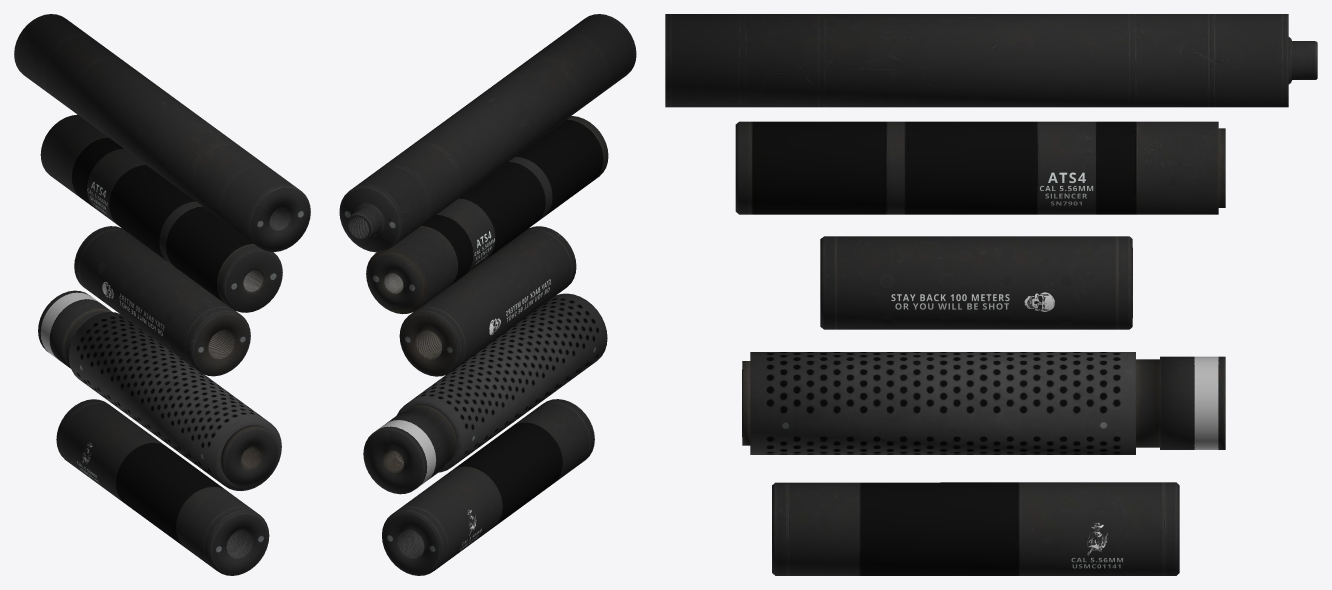
File: item_silencers.glb
3 views of the same model, side by side, from view 1: azimuth 30°, elevation 25°; view 2: azimuth 150°, elevation 25°; view 3: azimuth 270°, elevation 25° (orthographic). The views are drawn at different scales.
Visible parts, largest first — view 1: SR8_low, ATS4_low, MD3_low, ATS5_low, SB100_low, ATS5-2_low, SB1_Decal2; view 2: SR8_low, ATS4_low, MD3_low, ATS5_low, SB100_low, ATS5-2_low, SB1_Decal2; view 3: SR8_low, ATS4_low, ATS5_low, MD3_low, SB100_low, ATS5-2_low, SB1_Decal2, INSTANT_011_fa7e991e-6772-4d5d-b2b3-e9c001a8be7e_projected_..
Part boxes in pixels (x1=…): SR8_low: x1=14, y1=14, x2=310, y2=251; ATS4_low: x1=40, y1=114, x2=282, y2=312; MD3_low: x1=56, y1=399, x2=269, y2=575; ATS5_low: x1=68, y1=312, x2=281, y2=490; SB100_low: x1=74, y1=226, x2=250, y2=376; ATS5-2_low: x1=38, y1=290, x2=278, y2=486; SB1_Decal2: x1=102, y1=281, x2=164, y2=335; SR8_low: x1=339, y1=14, x2=636, y2=252; ATS4_low: x1=366, y1=116, x2=608, y2=314; MD3_low: x1=382, y1=399, x2=594, y2=575; ATS5_low: x1=396, y1=293, x2=607, y2=472; SB100_low: x1=399, y1=226, x2=576, y2=376; ATS5-2_low: x1=363, y1=405, x2=456, y2=494; SB1_Decal2: x1=489, y1=279, x2=550, y2=335; SR8_low: x1=665, y1=14, x2=1317, y2=107; ATS4_low: x1=735, y1=121, x2=1225, y2=214; ATS5_low: x1=750, y1=352, x2=1135, y2=454; MD3_low: x1=772, y1=482, x2=1179, y2=575; SB100_low: x1=820, y1=236, x2=1132, y2=329; ATS5-2_low: x1=742, y1=356, x2=1225, y2=449; SB1_Decal2: x1=891, y1=292, x2=1054, y2=311; INSTANT_011_fa7e991e-6772-4d5d-b2b3-e9c001a8be7e_projected_.: x1=880, y1=274, x2=1072, y2=324.
Bounding box in the file's own units: 662 × 3918 × 4185.
11 materials, 11 textured.
